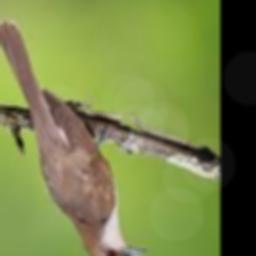Cuckoo: (0, 22, 148, 256)
